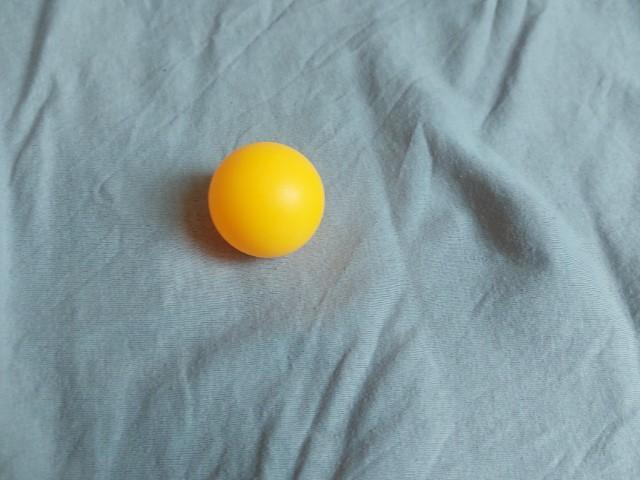oball: (195, 132, 335, 267)
